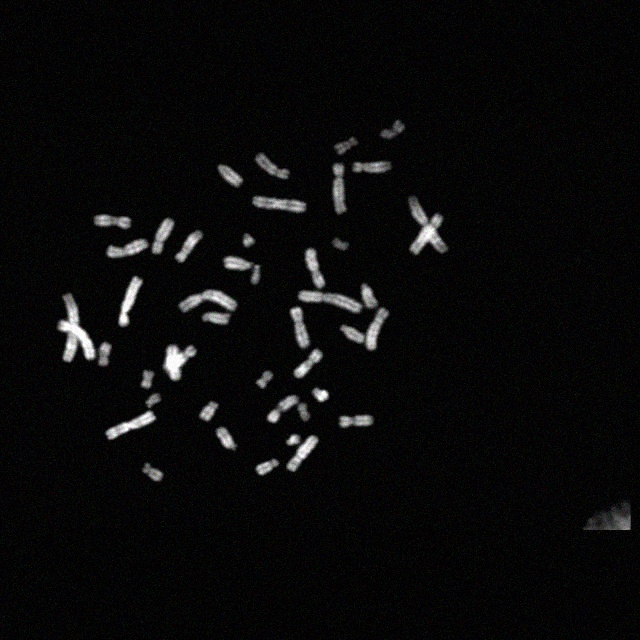chromosome: (409, 195, 449, 253), (58, 320, 96, 360), (298, 290, 362, 312), (106, 412, 156, 440), (411, 213, 444, 255), (179, 290, 239, 312), (116, 277, 142, 327), (62, 293, 80, 362), (287, 435, 319, 473), (367, 308, 391, 350), (267, 394, 299, 424), (175, 230, 203, 264), (163, 344, 197, 372), (255, 153, 289, 180), (252, 195, 306, 212), (290, 306, 310, 348), (295, 349, 323, 379), (305, 248, 325, 288), (108, 238, 148, 258), (152, 218, 174, 254), (332, 163, 346, 214), (166, 344, 182, 382), (218, 163, 242, 187), (216, 427, 238, 451), (353, 161, 392, 173), (341, 323, 365, 342), (335, 136, 357, 156), (360, 284, 378, 308), (94, 216, 130, 228), (224, 256, 253, 270), (381, 121, 403, 139), (257, 458, 279, 476), (340, 415, 372, 427), (142, 462, 162, 480), (200, 402, 218, 421), (203, 312, 231, 324), (256, 370, 272, 388), (98, 342, 110, 366), (312, 388, 330, 402), (140, 370, 154, 388), (298, 404, 310, 421), (146, 394, 160, 408), (250, 266, 260, 284), (242, 233, 254, 247), (333, 240, 349, 250), (286, 435, 300, 445)
